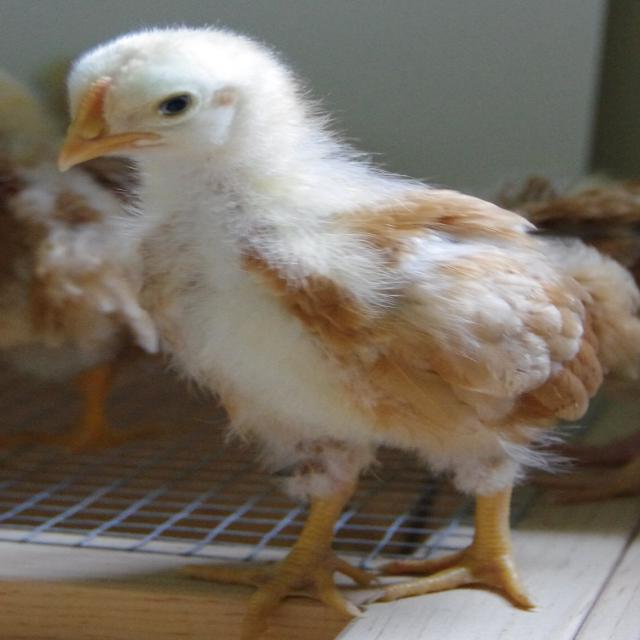poussin: (48, 26, 628, 635), (0, 62, 156, 460)
